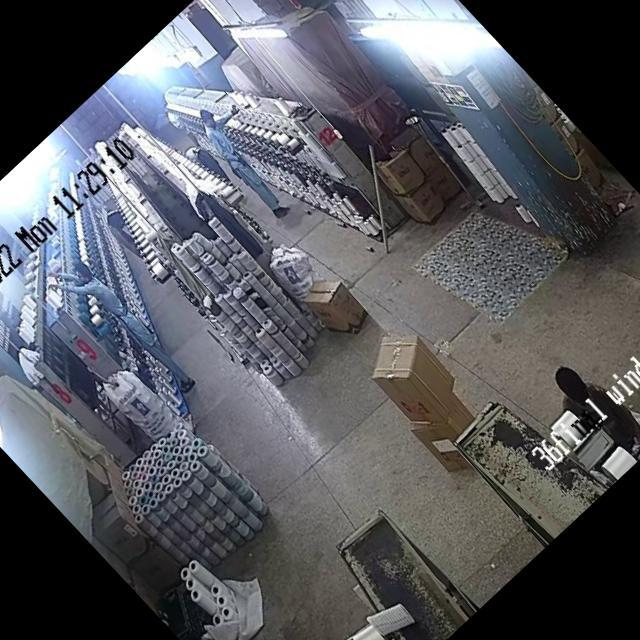person: (70, 254, 200, 391), (188, 107, 302, 226), (545, 356, 623, 436)
